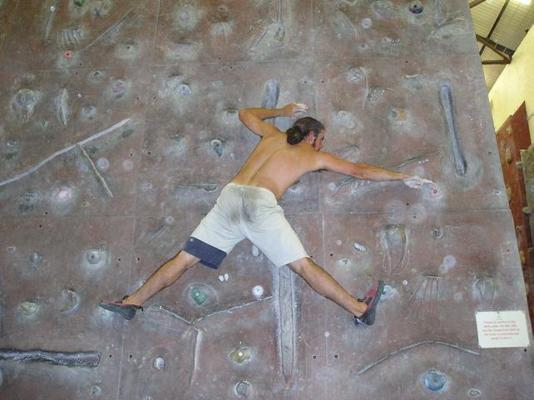person: (101, 101, 438, 325)
